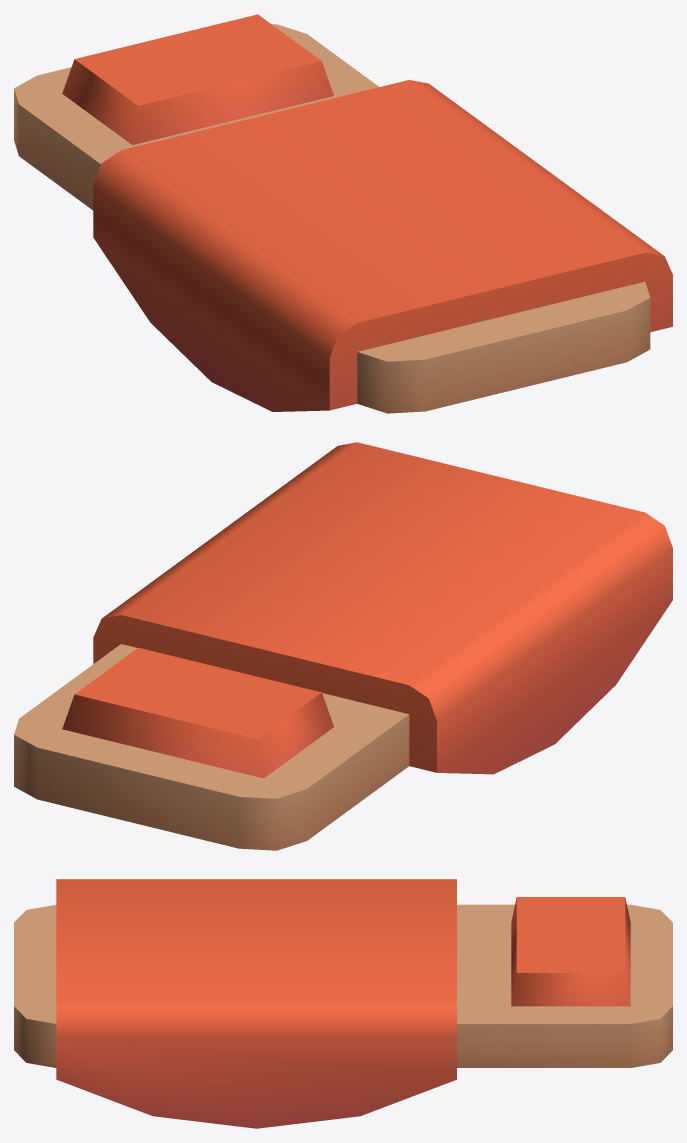
Rendered from bedroll.glb.
The picture shows the model from 3 angles, top to bottom: view 1: azimuth 30°, elevation 25°; view 2: azimuth 150°, elevation 25°; view 3: azimuth 270°, elevation 25°; orthographic projection. The views are drawn at different scales.
Parts seen in each view (by area): view 1: bedroll; view 2: bedroll; view 3: bedroll.
Boxes of the visible parts, <box> form: bedroll: <box>14,14,672,413</box>; bedroll: <box>14,442,672,850</box>; bedroll: <box>14,879,672,1128</box>.
Bounding box in the file's own units: 0.3104 × 0.1248 × 0.6076.
1 material, 1 textured.
